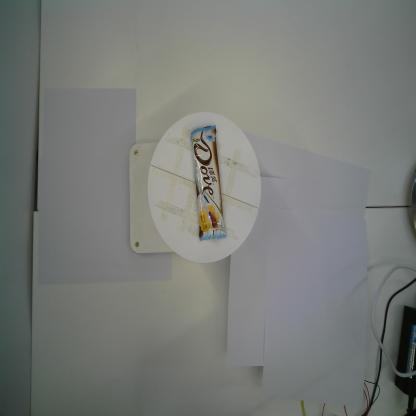Chocolate: (190, 124, 226, 242)
